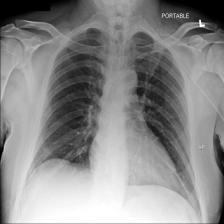normal: (23, 25, 204, 219)
